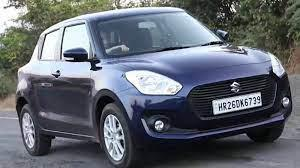Hatchback: (12, 6, 294, 165)
